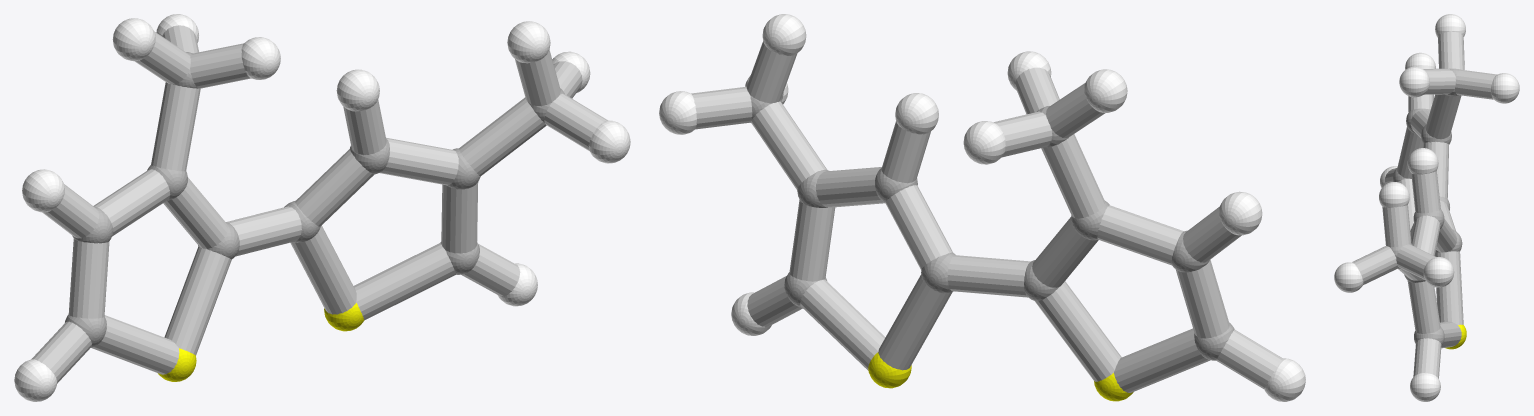
File: Methylthiophene_Phi_20_Theta_200_Methylthiophene.glb
3 renders of one model, left to right at view 1: azimuth 30°, elevation 25°; view 2: azimuth 150°, elevation 25°; view 3: azimuth 270°, elevation 25°, orthographic. The views are drawn at different scales.
Visible parts, largest first — view 1: grp7965, grp3621, grp1, grp7241; view 2: grp7965, grp3621, grp1, grp7241; view 3: grp7965, grp3621, grp1.
Part boxes in pixels (bbox=[...]): grp7965: bbox=[31, 25, 607, 383]; grp3621: bbox=[14, 14, 630, 401]; grp1: bbox=[65, 52, 564, 347]; grp7241: bbox=[158, 303, 364, 381]; grp7965: bbox=[691, 41, 1282, 392]; grp3621: bbox=[659, 14, 1305, 401]; grp1: bbox=[750, 96, 1234, 360]; grp7241: bbox=[868, 352, 1133, 401]; grp7965: bbox=[1352, 31, 1496, 378]; grp3621: bbox=[1334, 14, 1519, 401]; grp1: bbox=[1389, 68, 1462, 345].
Size of the model in its own units: 9.63 by 5.54 by 3.6.
